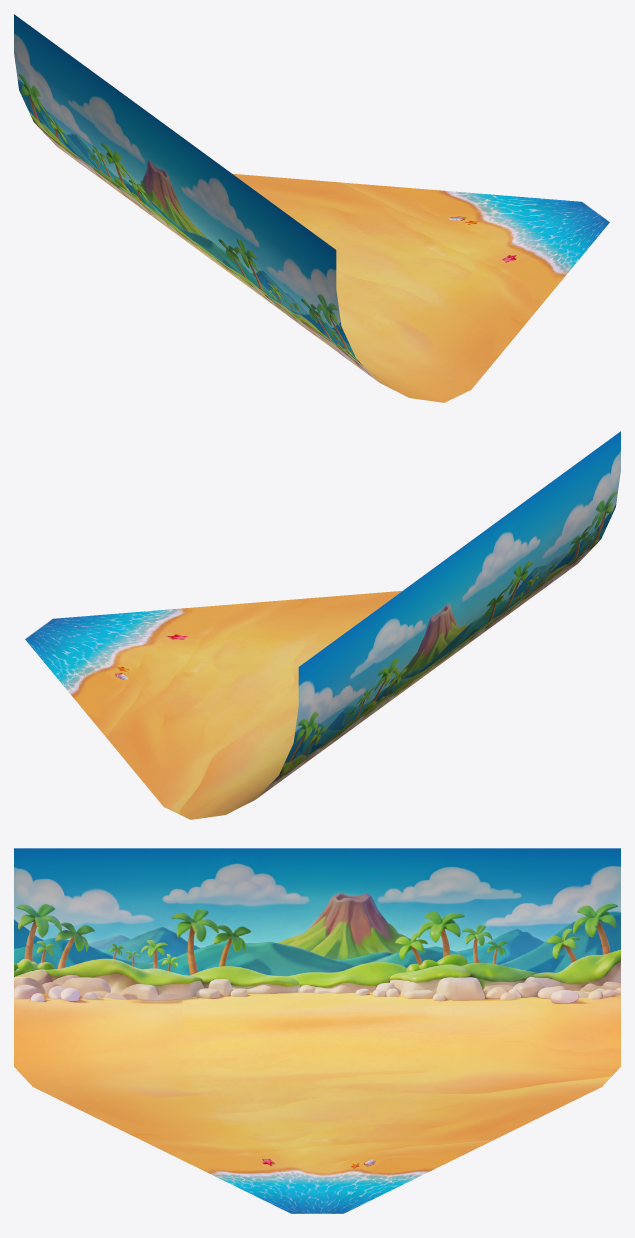
The model's file is Back_Mesh_2.fbx.
The picture shows the model from 3 angles, top to bottom: view 1: azimuth 30°, elevation 25°; view 2: azimuth 150°, elevation 25°; view 3: azimuth 270°, elevation 25°; orthographic projection. The views are drawn at different scales.
Parts seen in each view (by area): view 1: Plane; view 2: Plane; view 3: Plane.
Boxes of the visible parts, box(x1,y1,x2,y2) form: Plane: box(14, 14, 609, 402); Plane: box(25, 431, 620, 819); Plane: box(14, 848, 620, 1213).
Bounding box in the file's own units: 317 × 125 × 400.
1 material, 1 textured.
